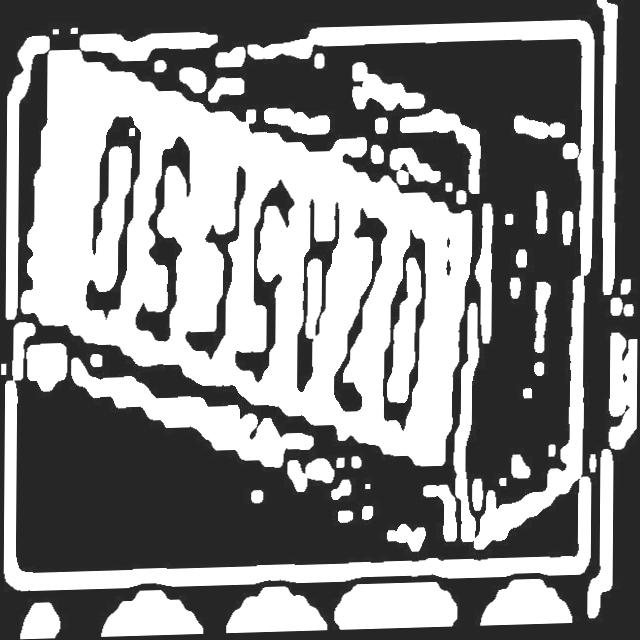0: (85, 113, 139, 326)
3: (138, 136, 192, 351)
5: (243, 175, 293, 389)
a: (295, 196, 342, 405)
f: (190, 159, 244, 370)
q: (381, 228, 434, 440)
z: (332, 205, 385, 424)
